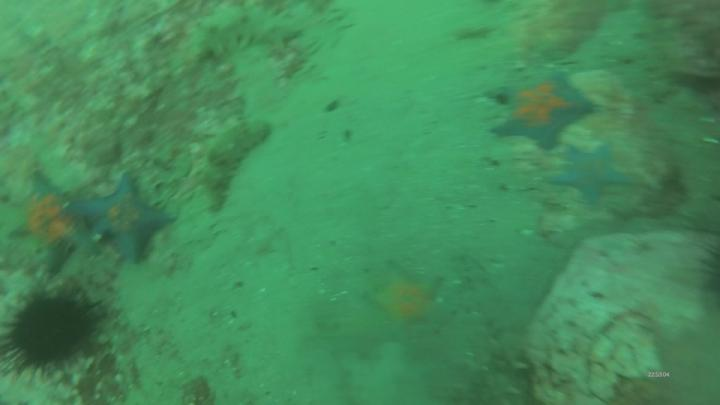echinus: (10, 296, 92, 366)
holothurian: (198, 12, 300, 60), (207, 120, 264, 205)
scallop: (522, 227, 537, 241)
starfish: (79, 177, 176, 263), (484, 76, 591, 148), (368, 262, 446, 329), (11, 175, 77, 253), (546, 148, 621, 198)
